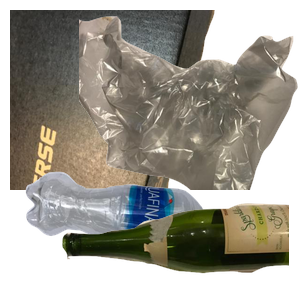cardboard: (10, 10, 217, 190)
glass: (60, 201, 300, 300)
plastic: (23, 169, 243, 300)
trash: (79, 14, 300, 194)
